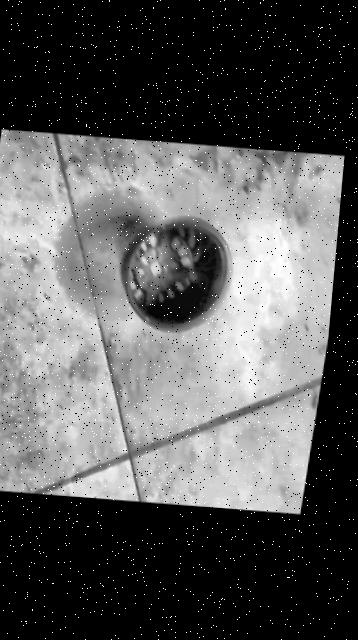pot: (109, 212, 237, 334)
